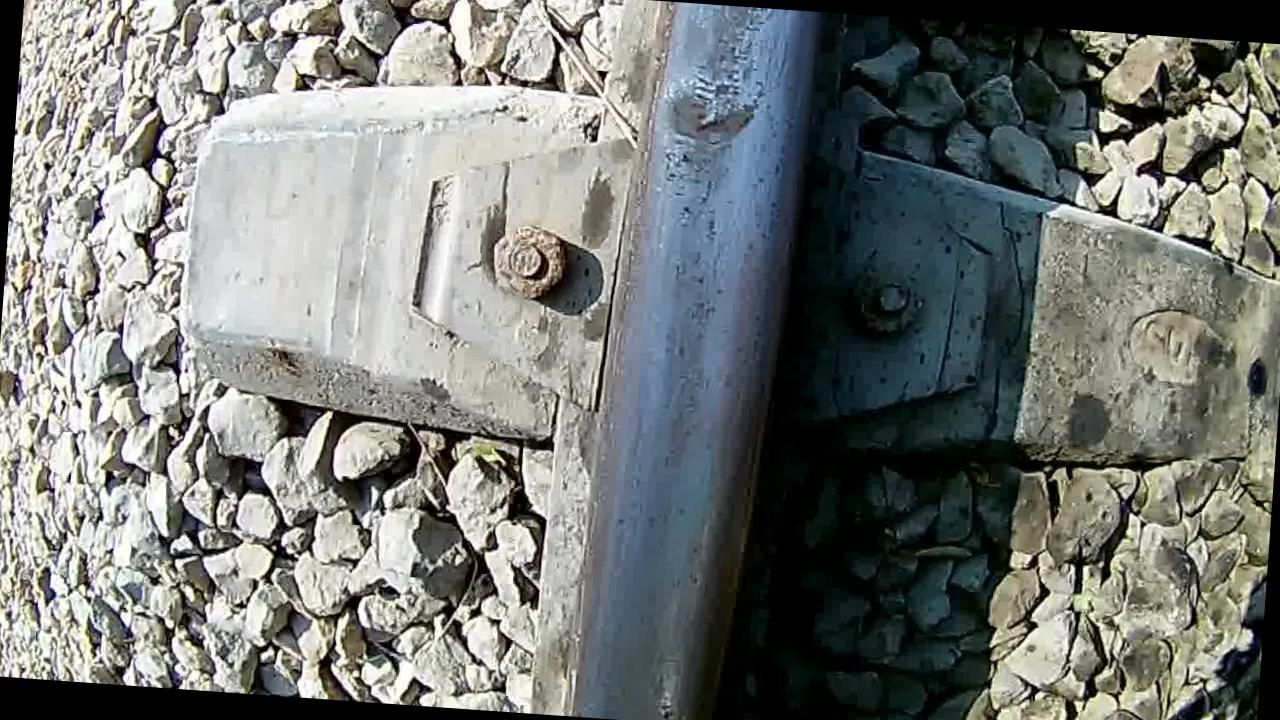crack: (575, 0, 803, 720)
